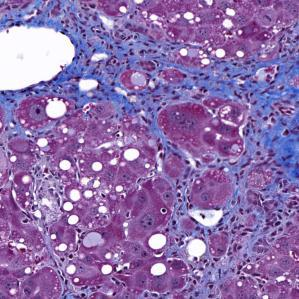fibrosis: (71, 13, 181, 102), (199, 53, 299, 136), (231, 154, 299, 229), (166, 223, 233, 285)
